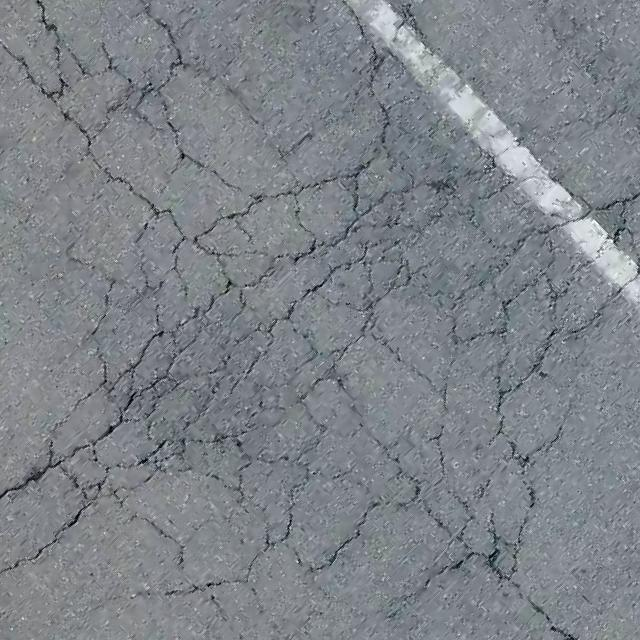GRIETA: (0, 504, 88, 574), (509, 581, 580, 639), (0, 464, 49, 499)
PIEL DE COCODRILO: (0, 0, 639, 639)
